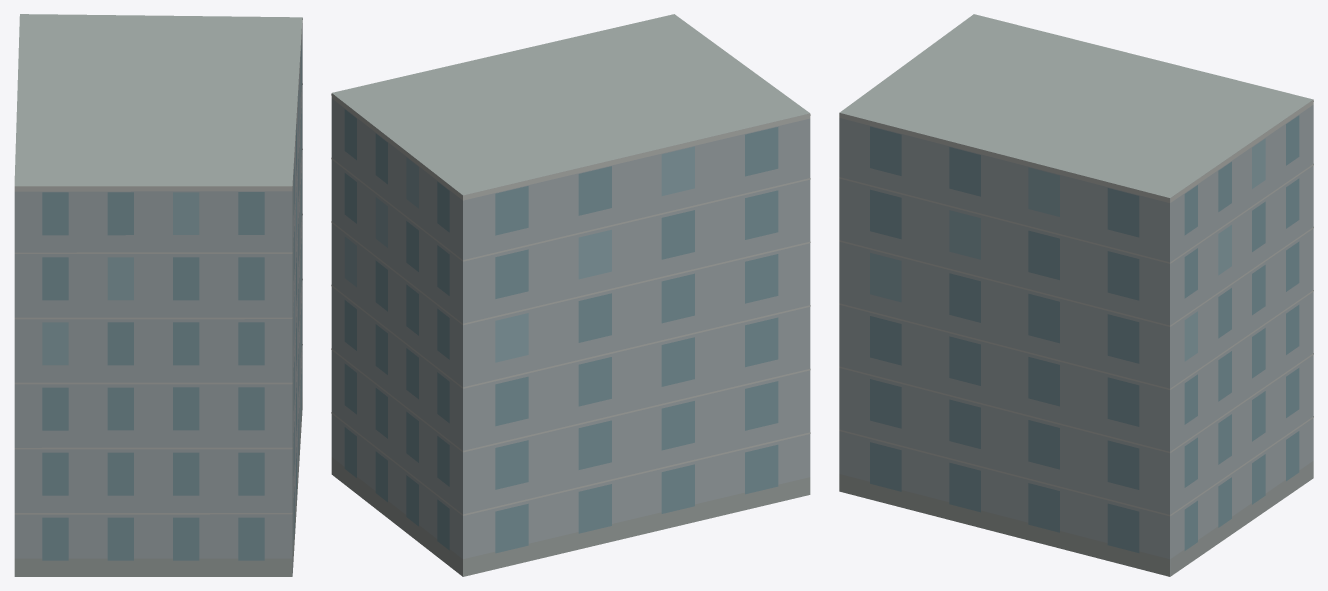
The model's file is survey-upis-32747395.glb.
The picture shows the model from 3 angles, left to right: view 1: azimuth 30°, elevation 25°; view 2: azimuth 150°, elevation 25°; view 3: azimuth 270°, elevation 25°; orthographic projection. The views are drawn at different scales.
Parts seen in each view (by area): view 1: survey-upis-32747395.tmp; view 2: survey-upis-32747395.tmp; view 3: survey-upis-32747395.tmp.
Part boxes in pixels (x1,y1,x2,y2): survey-upis-32747395.tmp: [14, 14, 302, 576]; survey-upis-32747395.tmp: [331, 14, 810, 576]; survey-upis-32747395.tmp: [839, 14, 1313, 576].
Size of the model in its own units: 18.87 by 18.08 by 20.54.
